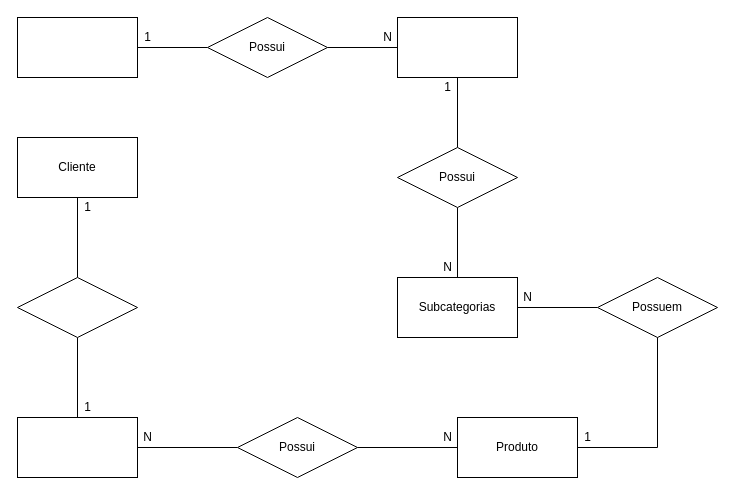
Image size: 735x495. Some labels were removed from this diagram. Here are the shapes that lost their labels. From the top down, the centre of each, then its label:
the point at 77,47: Loja
the point at 457,47: Categorias
the point at 77,307: Efetua
the point at 77,447: Pedido
